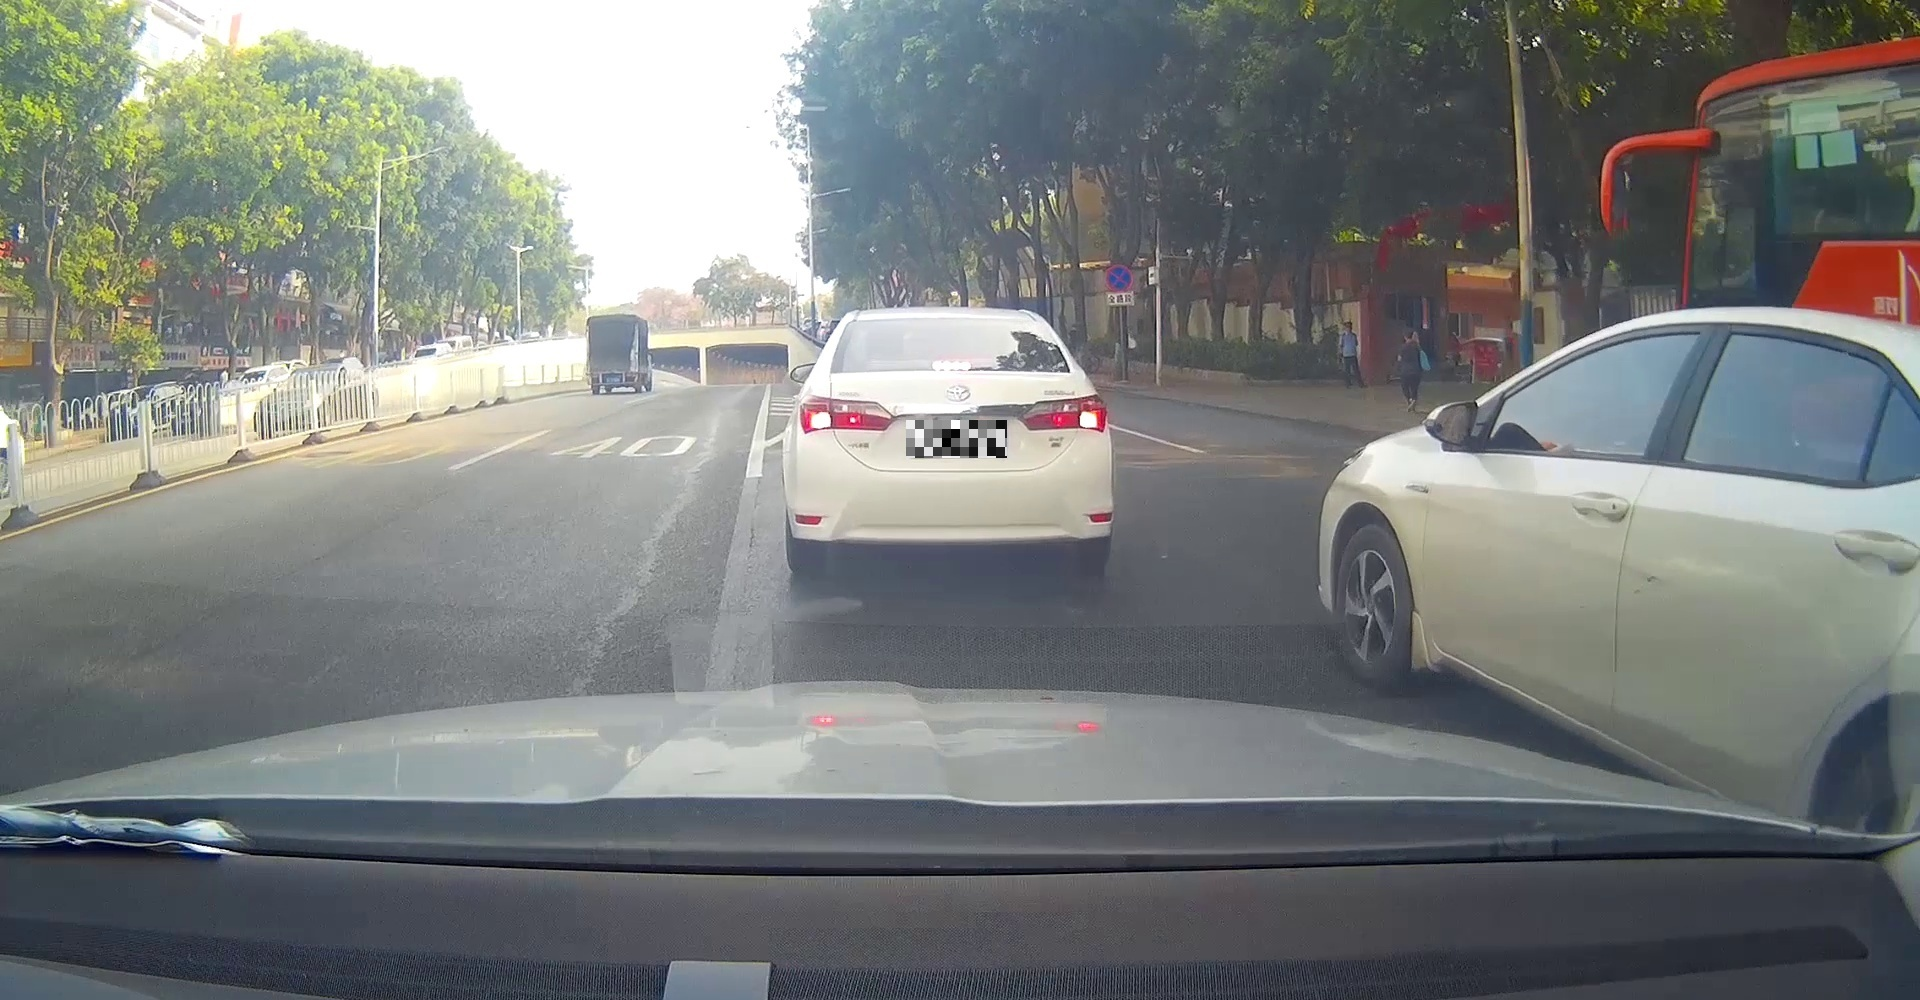L_light: (799, 391, 895, 434), (590, 374, 599, 379)
R_light: (1017, 393, 1109, 434), (626, 374, 636, 378)
T_light: (931, 359, 971, 371), (608, 316, 620, 319)
day-brake: (782, 306, 1115, 572)
day-no: (585, 313, 643, 395)
plate_1: (905, 420, 1007, 458)
